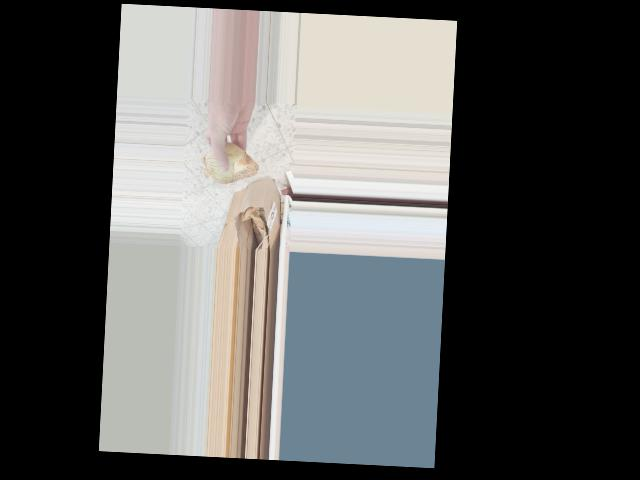onion: (201, 136, 262, 192)
